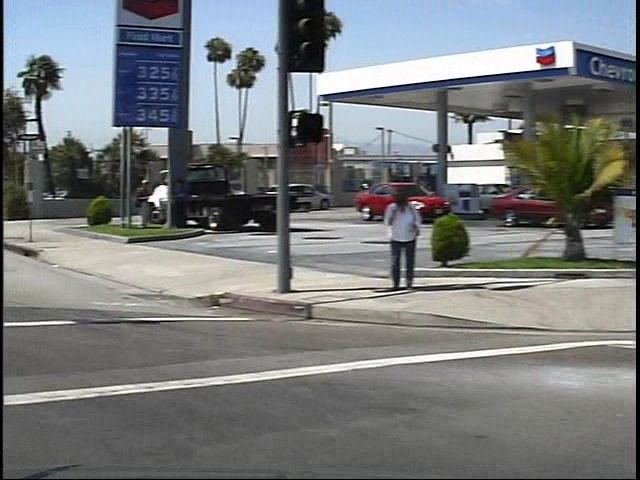person: (370, 184, 412, 293), (125, 176, 146, 233)
